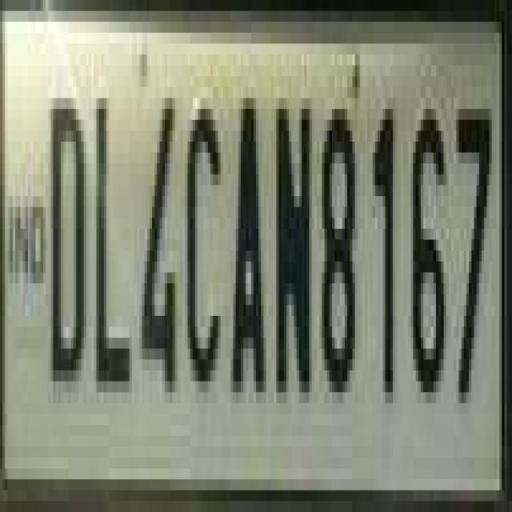number plate: (2, 0, 486, 512)
